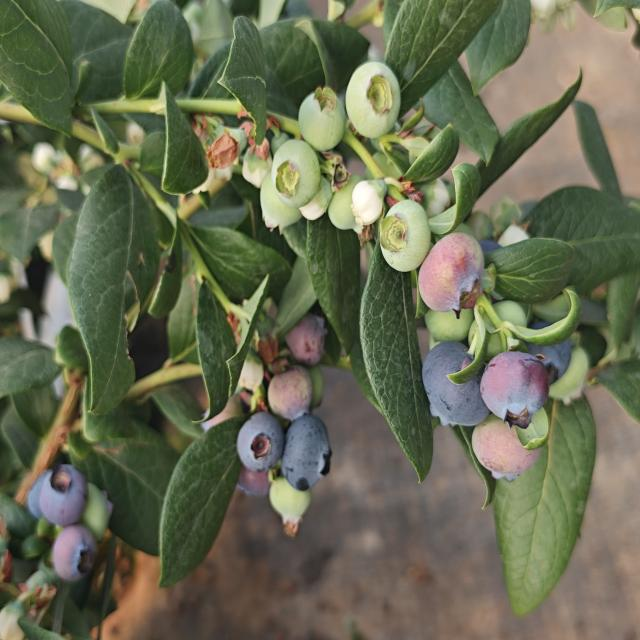ripe: (420, 338, 490, 431), (478, 348, 551, 432), (279, 411, 334, 495), (40, 457, 93, 527), (234, 409, 285, 476), (46, 522, 98, 586), (524, 323, 578, 384), (22, 466, 60, 524)
